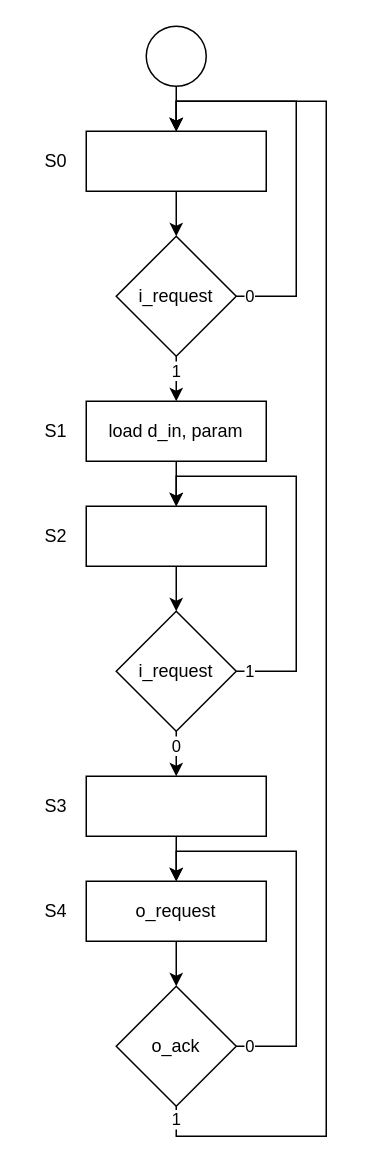
The diagram is 365 pixels wide and 1175 high, and some of its shapes have lost their labels. The centre of each missing label's shape, as x and y in pixels:
"compute d_out" goes at point 175,805.
"i_ack" goes at point 175,535.
